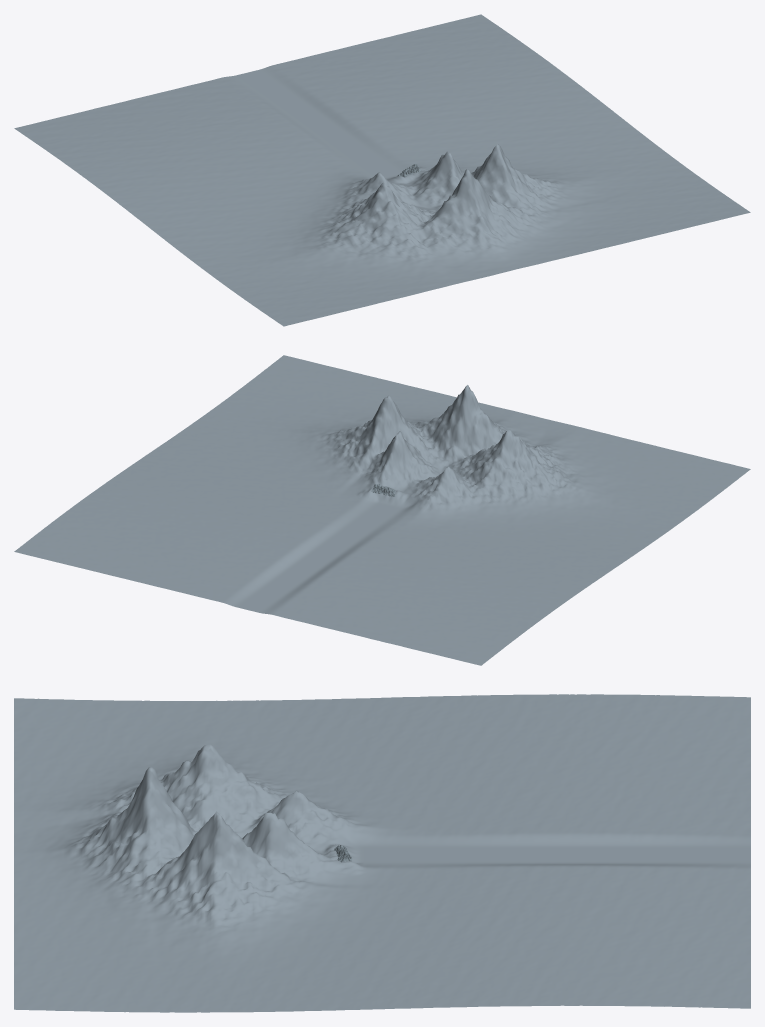
File: walk-background.glb
3 views of the same model, one above another, from view 1: azimuth 30°, elevation 25°; view 2: azimuth 150°, elevation 25°; view 3: azimuth 270°, elevation 25° (orthographic). The views are drawn at different scales.
Visible parts, largest first — view 1: Distant_Alpine_Basin; view 2: Distant_Alpine_Basin; view 3: Distant_Alpine_Basin.
Boxes of the visible parts, <box> form: Distant_Alpine_Basin: <box>14,14,750,326</box>; Distant_Alpine_Basin: <box>14,355,750,665</box>; Distant_Alpine_Basin: <box>14,694,750,1012</box>.
Bounding box in the file's own units: 12003 × 1615 × 12000.
